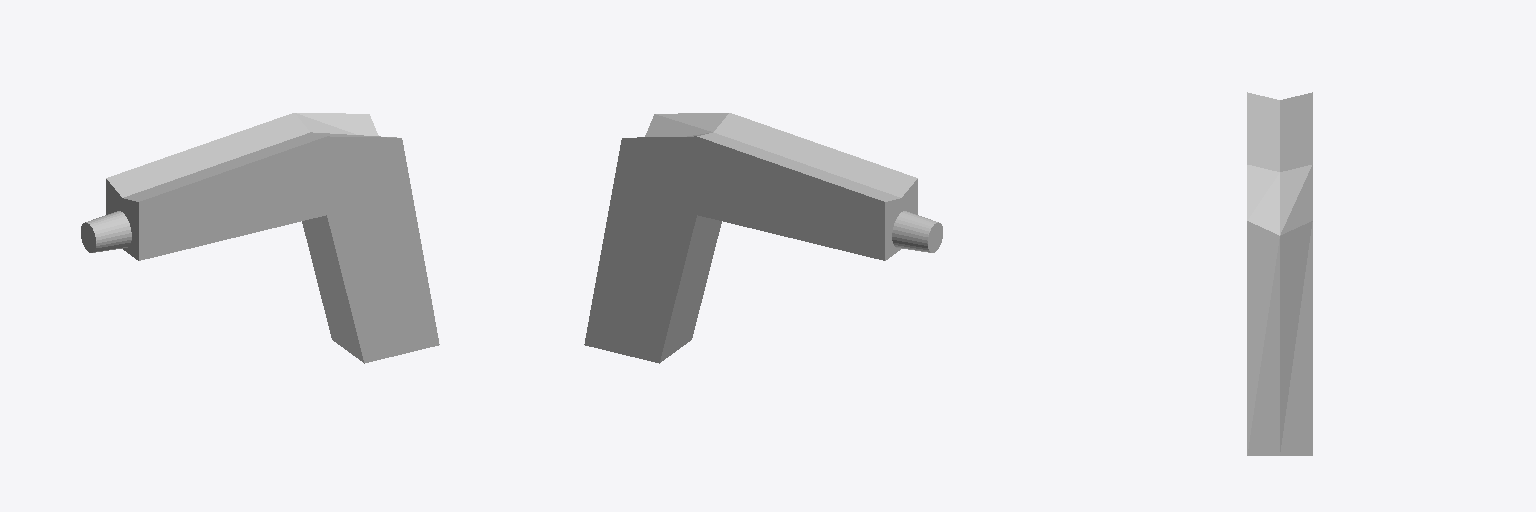
File: Main.obj
The picture shows the model from 3 angles: view 1: azimuth 30°, elevation 25°; view 2: azimuth 150°, elevation 25°; view 3: azimuth 270°, elevation 25°; orthographic projection.
Parts seen in each view (by area): view 1: Main; view 2: Main; view 3: Main.
Part boxes in pixels (x1,y1,x2,y2): Main: (81, 113, 439, 363); Main: (584, 113, 942, 363); Main: (1247, 92, 1312, 455).
Bounding box in the file's own units: 0.178 × 0.12 × 0.03.